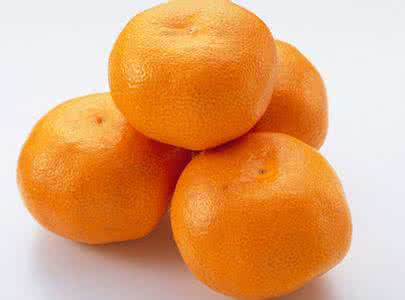orange: (175, 138, 356, 291), (13, 93, 177, 238), (107, 1, 273, 134), (266, 33, 332, 152)
